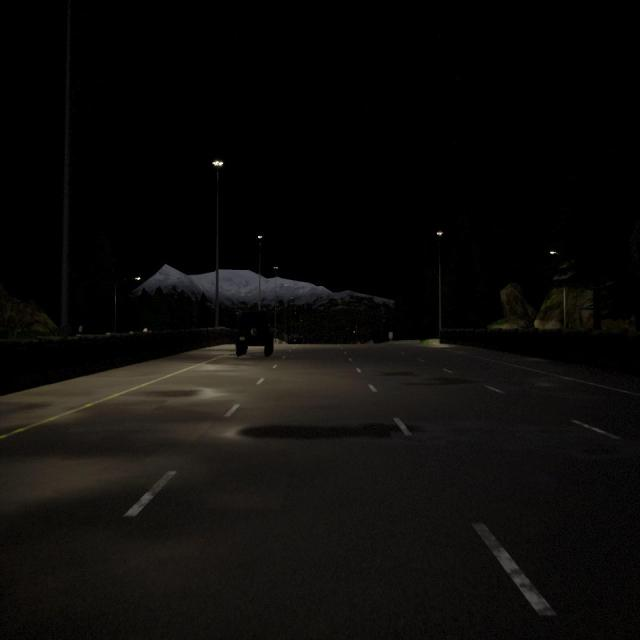Vehicle: (235, 309, 274, 356), (288, 335, 300, 344)
